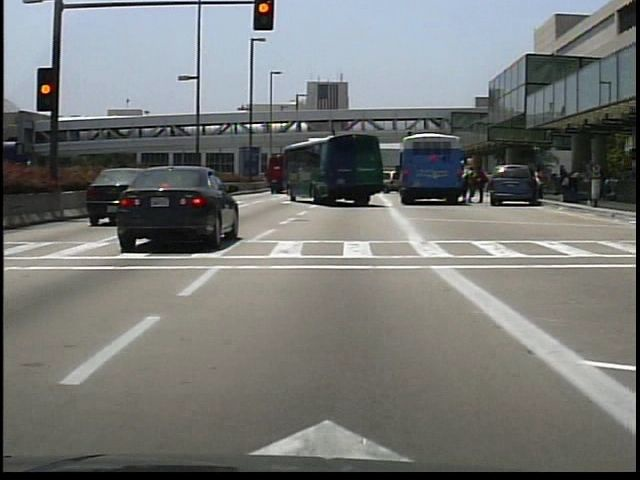person: (464, 163, 479, 204), (474, 164, 488, 207), (532, 168, 545, 206)
